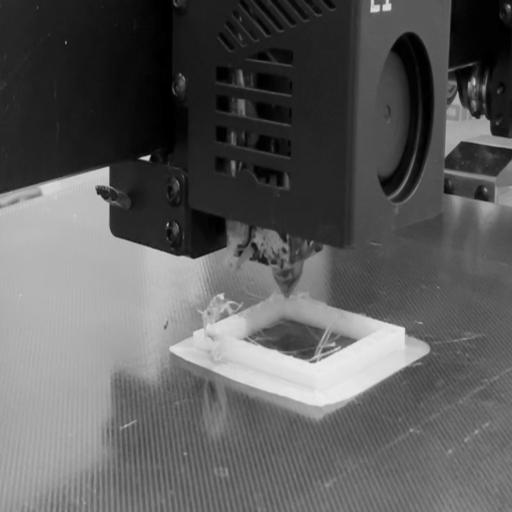spaghetti_and_stringing: (198, 286, 379, 369)
warp: (284, 388, 357, 425)
